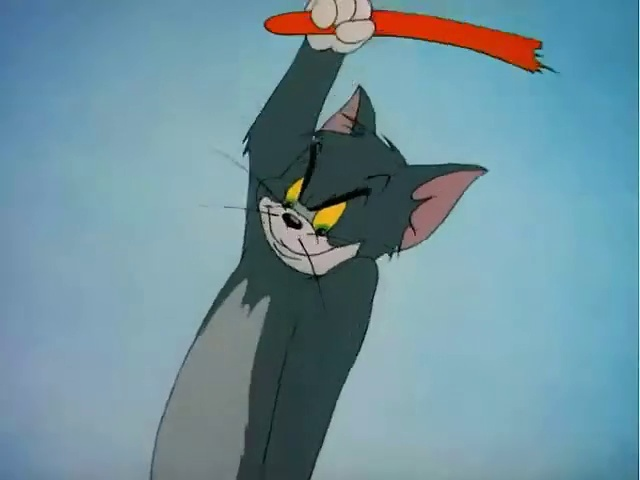tom: (136, 6, 516, 474)
